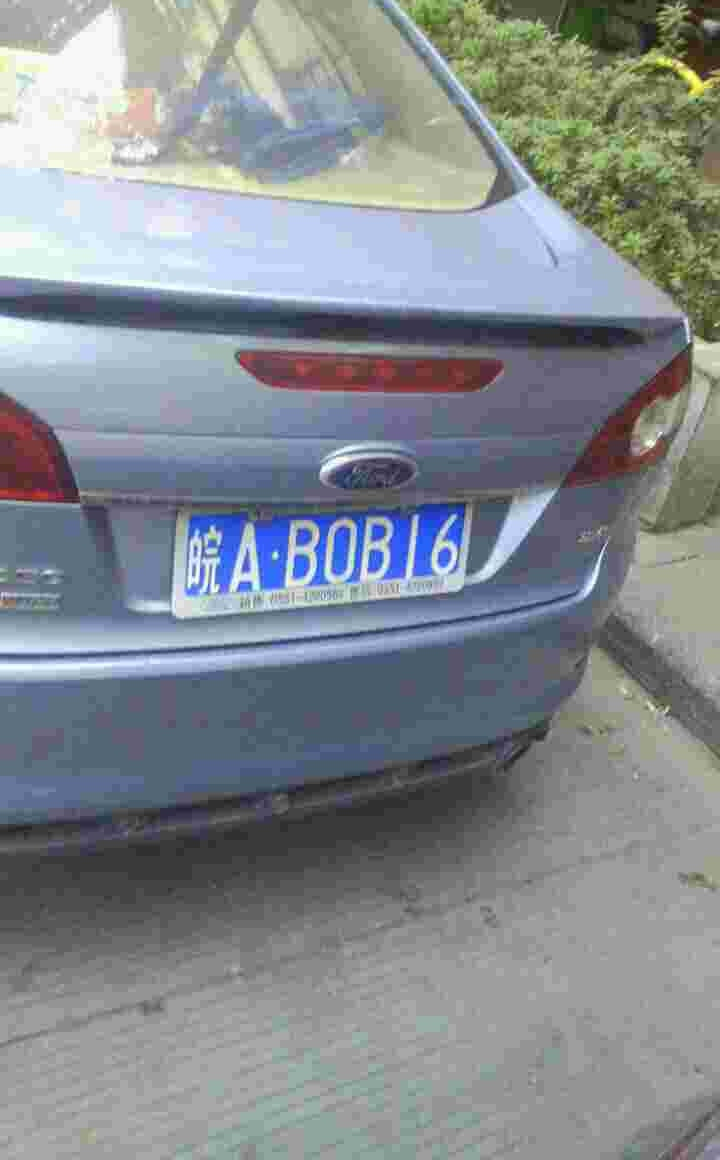license_plate: (180, 498, 476, 601)
